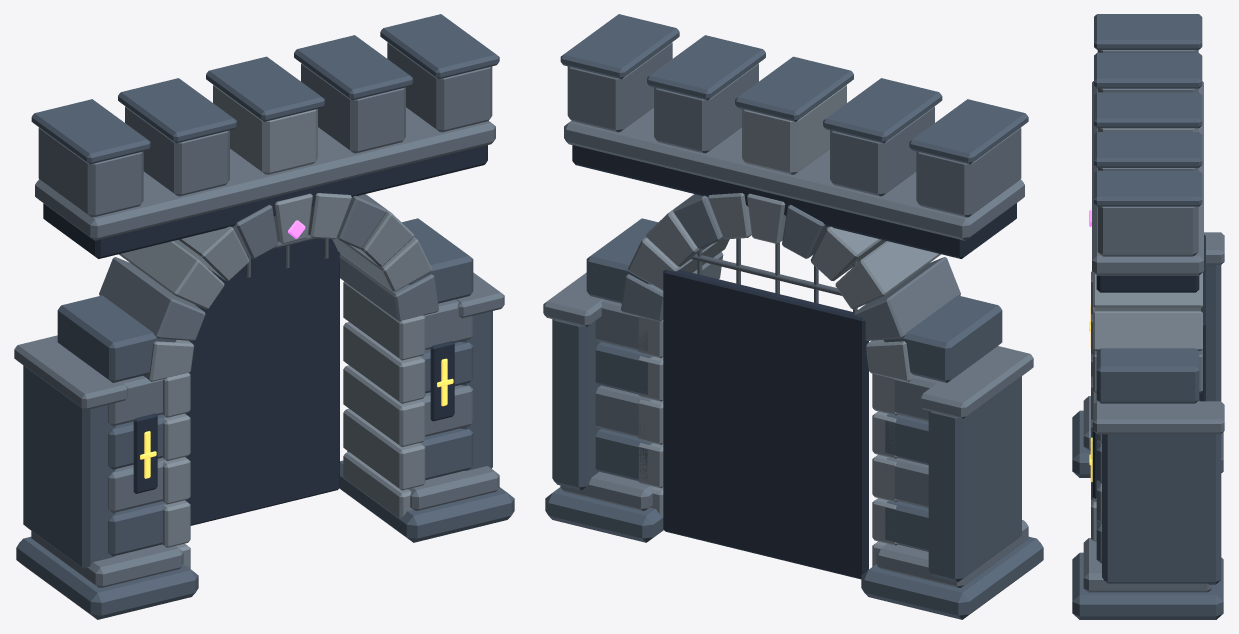
Rendered from gate_arch.glb.
3 views of the same model, side by side, from view 1: azimuth 30°, elevation 25°; view 2: azimuth 150°, elevation 25°; view 3: azimuth 270°, elevation 25° (orthographic). The views are drawn at different scales.
Visible parts, largest first — view 1: GateArch_Slate_BlueBlack, GateArch_Slate_Worn, GateArch_Recess_Midnight, GateArch_Slate_Pale_Edges, GateArch_Amber_Exit_Inlay; view 2: GateArch_Slate_BlueBlack, GateArch_Recess_Midnight, GateArch_Slate_Worn, GateArch_Slate_Pale_Edges, GateArch_Iron_Cold_Forged; view 3: GateArch_Slate_BlueBlack, GateArch_Slate_Worn, GateArch_Slate_Pale_Edges, GateArch_Recess_Midnight.
Boxes of the visible parts, x1,y1,x2,y2 form: GateArch_Slate_BlueBlack: (16, 14, 514, 619); GateArch_Slate_Worn: (14, 42, 504, 587); GateArch_Recess_Midnight: (43, 145, 487, 525); GateArch_Slate_Pale_Edges: (119, 85, 431, 568); GateArch_Amber_Exit_Inlay: (140, 358, 453, 478); GateArch_Slate_BlueBlack: (545, 14, 1043, 619); GateArch_Recess_Midnight: (572, 145, 1016, 579); GateArch_Slate_Worn: (543, 42, 1033, 587); GateArch_Slate_Pale_Edges: (628, 85, 940, 566); GateArch_Iron_Cold_Forged: (691, 238, 857, 312); GateArch_Slate_BlueBlack: (1072, 14, 1223, 619); GateArch_Slate_Worn: (1083, 50, 1224, 592); GateArch_Slate_Pale_Edges: (1091, 128, 1202, 541); GateArch_Recess_Midnight: (1092, 234, 1205, 498).
Bounding box in the file's own units: 4.91 × 5.08 × 1.66.
